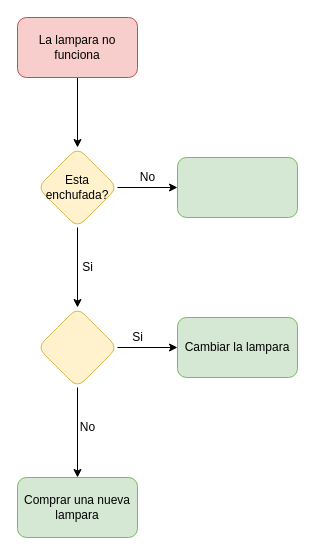
The diagram is 315 pixels wide and 555 high, and some of its shapes have lost their labels. Each missing label, with the centre of its shape:
"Enchufar" goes at (237,187).
"Esta quemada la lampara?" goes at (77,347).
